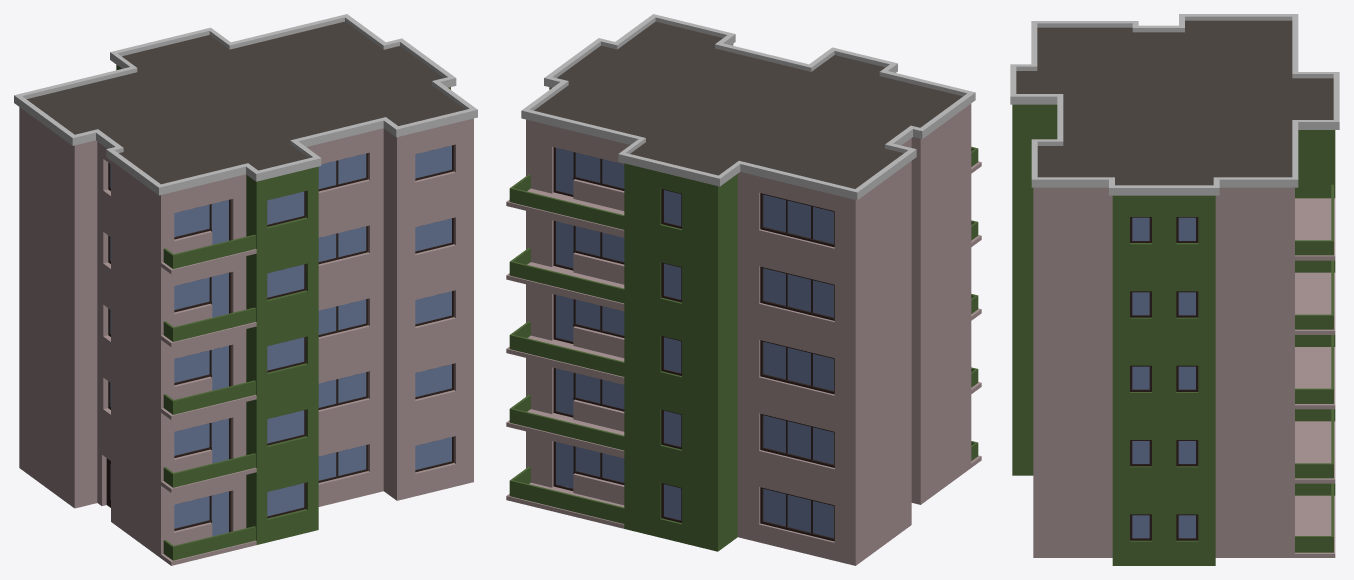
The model's file is ApartmentBuilding_05.fbx.
3 renders of one model, left to right at view 1: azimuth 30°, elevation 25°; view 2: azimuth 150°, elevation 25°; view 3: azimuth 270°, elevation 25°, orthographic. The views are drawn at different scales.
Parts seen in each view (by area): view 1: ApartmentBuilding_05; view 2: ApartmentBuilding_05; view 3: ApartmentBuilding_05.
Boxes of the visible parts, x1,y1,x2,y2 form: ApartmentBuilding_05: [14, 14, 477, 565]; ApartmentBuilding_05: [506, 14, 981, 565]; ApartmentBuilding_05: [1010, 14, 1339, 565].
Size of the model in its own units: 14.53 by 14.8 by 11.62.
